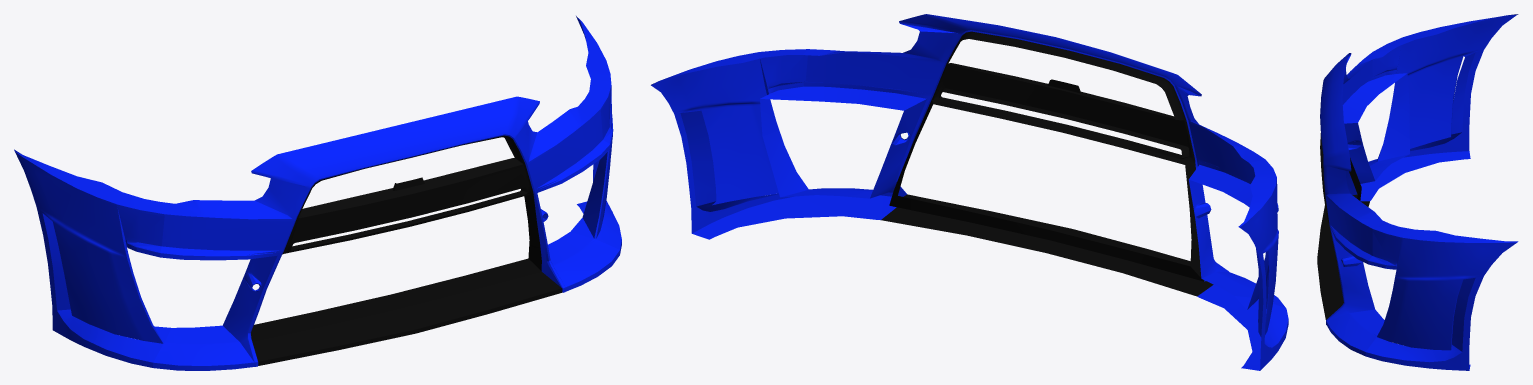
The model's file is evox_front_boot.FBX.
3 views of the same model, side by side, from view 1: azimuth 30°, elevation 25°; view 2: azimuth 150°, elevation 25°; view 3: azimuth 270°, elevation 25° (orthographic). The views are drawn at different scales.
Parts seen in each view (by area): view 1: DrawCall23, DrawCal105; view 2: DrawCall23, DrawCal105; view 3: DrawCall23, DrawCal105.
Part boxes in pixels (x1=…): DrawCall23: x1=14, y1=16, x2=621, y2=370; DrawCal105: x1=251, y1=135, x2=562, y2=365; DrawCall23: x1=651, y1=14, x2=1288, y2=370; DrawCal105: x1=881, y1=31, x2=1213, y2=296; DrawCall23: x1=1320, y1=14, x2=1518, y2=370; DrawCal105: x1=1317, y1=133, x2=1369, y2=319.
Bounding box in the file's own units: 3930 × 1330 × 1478.
